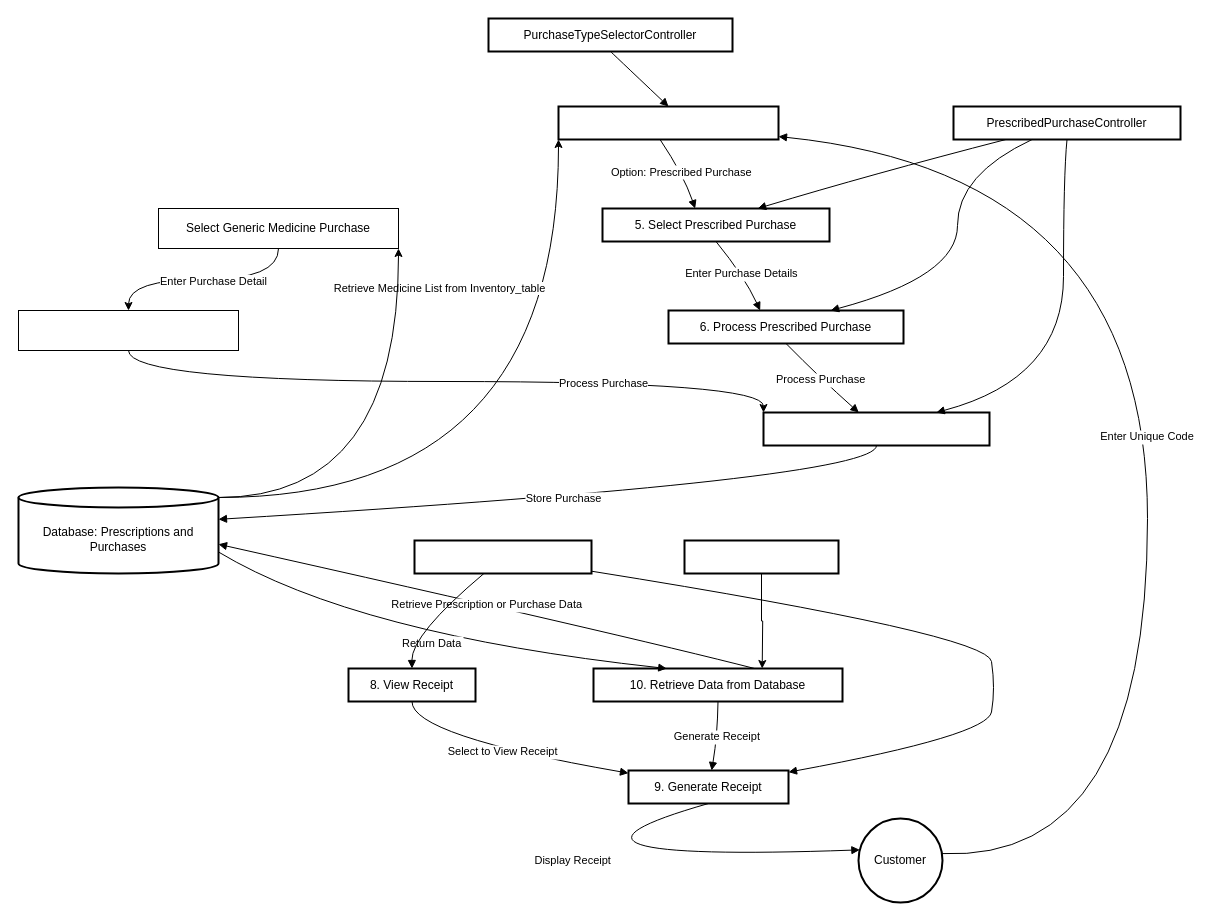
Some shapes in this 1212 by 920 pixel diagram are drawn without their labels. Here are the shapes that lost their labels. From the top down, the centre of each, then its label:
At [668,122]: "1. Show Purchase Type Menu".
At [128,330]: "Process Generic Med Purchase".
At [876,428]: "7. Save Purchase to Database".
At [502,556]: "ViewReceiptController".
At [761,556]: "DatabaseController".
